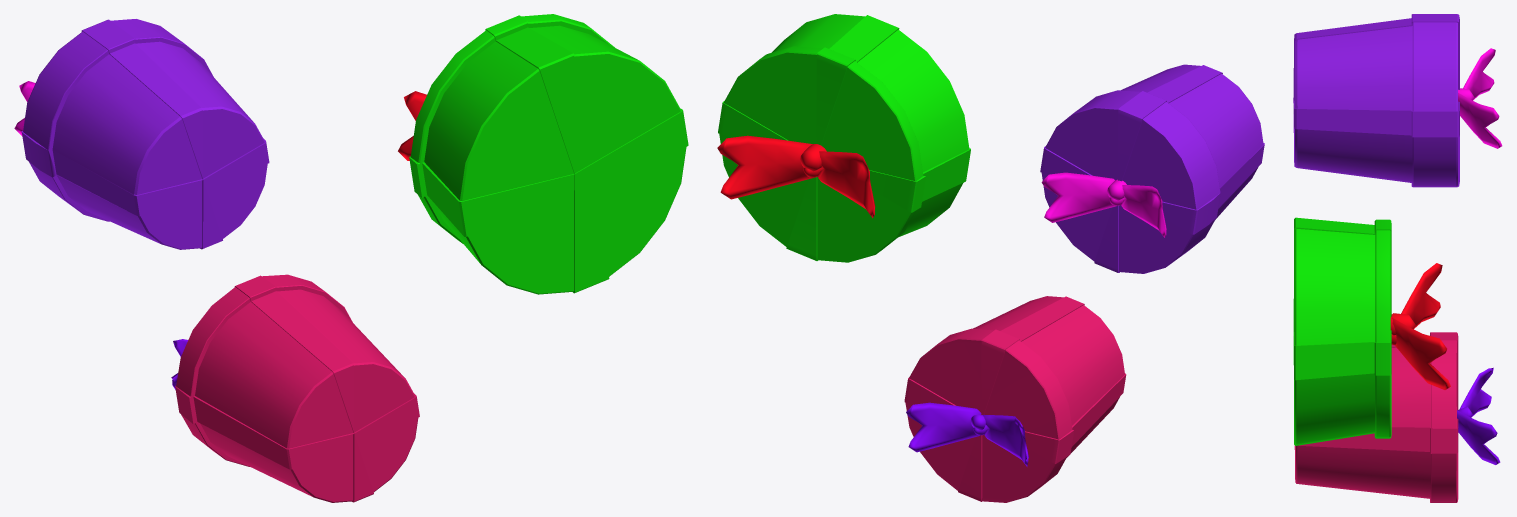
File: gifts.fbx
3 renders of one model, left to right at view 1: azimuth 30°, elevation 25°; view 2: azimuth 150°, elevation 25°; view 3: azimuth 270°, elevation 25°, orthographic. The views are drawn at different scales.
Parts seen in each view (by area): view 1: pCylinder1.002; view 2: pCylinder1.002; view 3: pCylinder1.002.
Boxes of the visible parts, x1,y1,x2,y2 form: pCylinder1.002: [14, 14, 688, 502]; pCylinder1.002: [717, 14, 1264, 502]; pCylinder1.002: [1293, 14, 1502, 502].
Bounding box in the file's own units: 1.92 × 1.51 × 0.6991.
